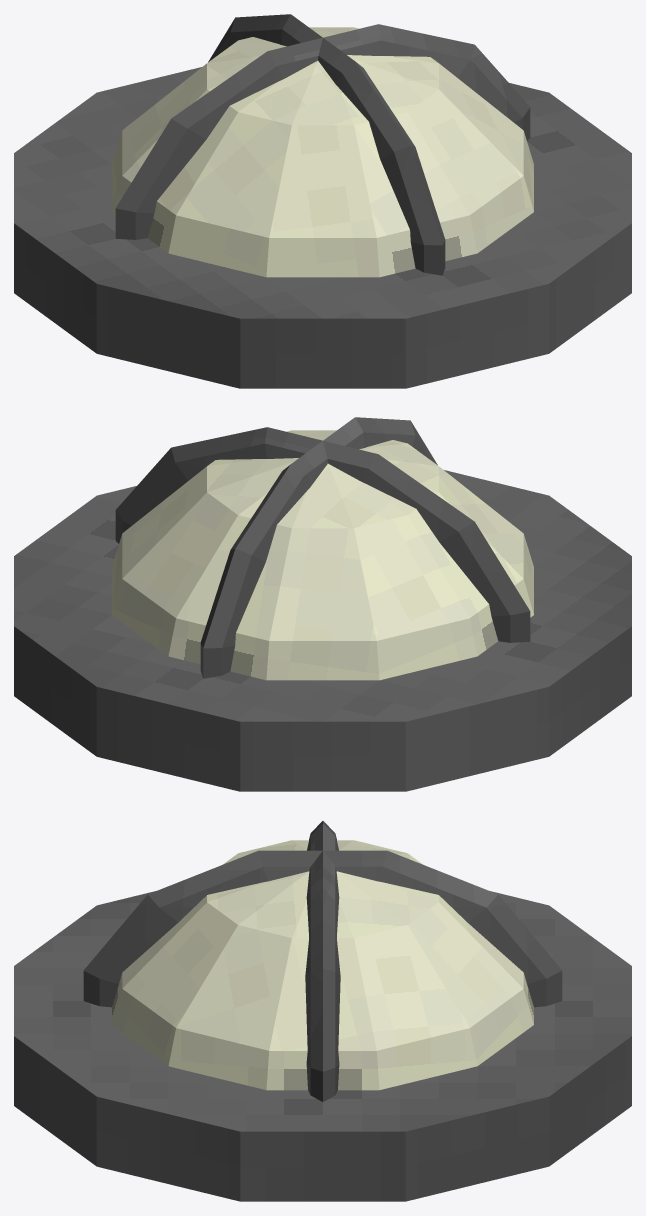
File: round_lamp.obj
The picture shows the model from 3 angles, top to bottom: view 1: azimuth 30°, elevation 25°; view 2: azimuth 150°, elevation 25°; view 3: azimuth 270°, elevation 25°; orthographic projection.
Parts seen in each view (by area): view 1: torus; view 2: torus; view 3: torus.
Boxes of the visible parts, x1=… form: torus: x1=14, y1=14, x2=631, y2=388; torus: x1=14, y1=417, x2=631, y2=791; torus: x1=14, y1=821, x2=631, y2=1201.
Size of the model in its own units: 0.5 by 0.1969 by 0.5.
